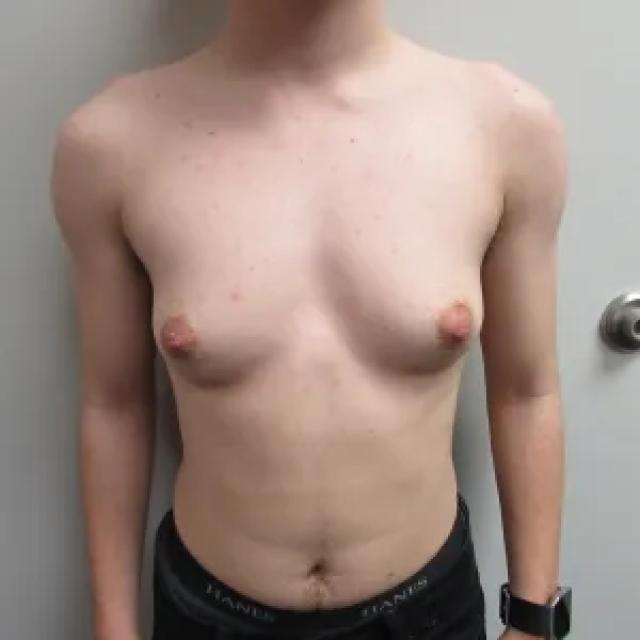Seno ileso: (321, 240, 495, 405), (132, 239, 305, 404)
